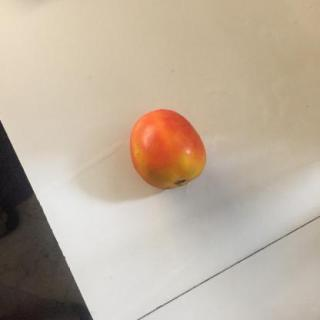Tomat: (123, 106, 214, 201)
